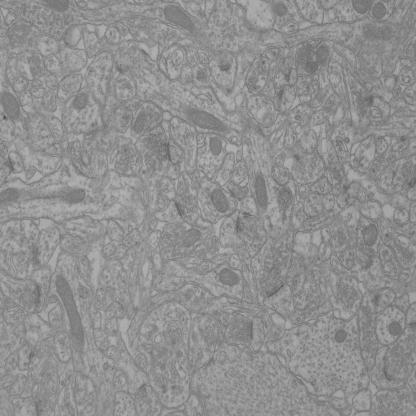mitochondria: (55, 274, 85, 347), (183, 104, 227, 134), (162, 4, 194, 34), (0, 87, 21, 122), (252, 171, 270, 211), (210, 187, 229, 213), (218, 267, 240, 287), (362, 223, 378, 247), (351, 0, 374, 15), (64, 188, 85, 204), (132, 112, 146, 136), (209, 134, 224, 156), (315, 44, 330, 65), (74, 92, 90, 110), (372, 3, 388, 20), (387, 320, 403, 336), (274, 2, 289, 17), (304, 60, 319, 74), (335, 328, 347, 344)
